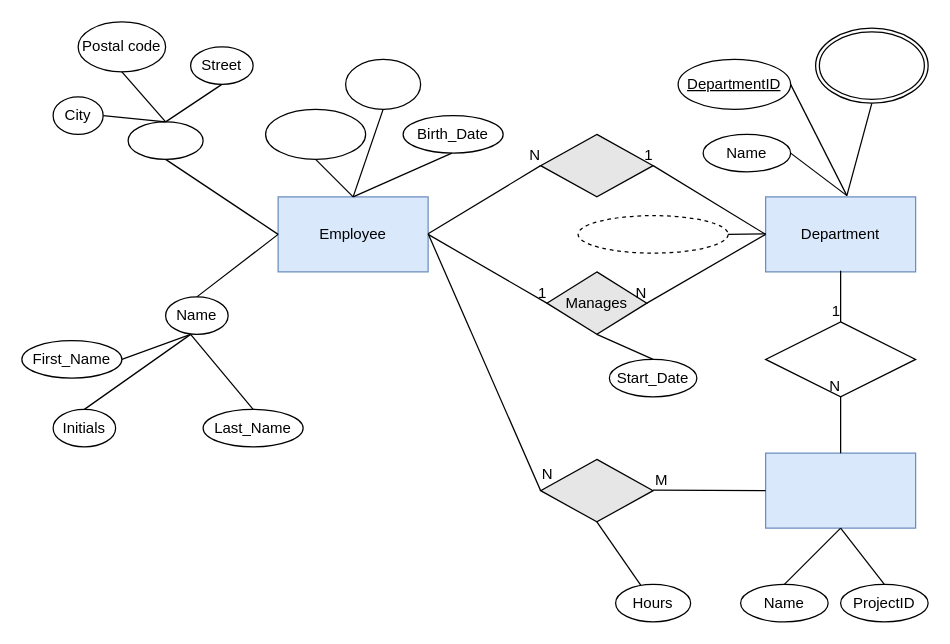
The diagram is 950 pixels wide and 644 high, and some of its shapes have lost their labels. Each missing label, with the centre of its shape:
"Address" goes at [165,140].
"Employee ID" goes at [315,133].
"Gender" goes at [382,83].
"Location" goes at [871,65].
"No. of Employees" goes at [652,233].
"Project" goes at [840,490].
"Relationship" goes at [840,359].
"Works_For" goes at [596,165].
"Works_On" goes at [596,490].
